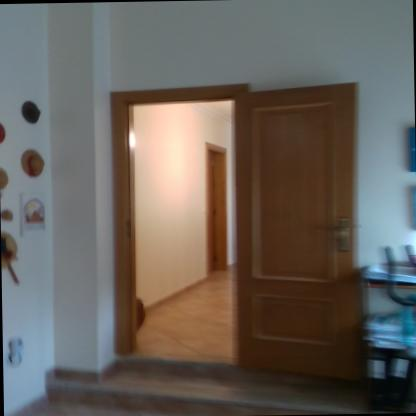open: (82, 67, 378, 387)
